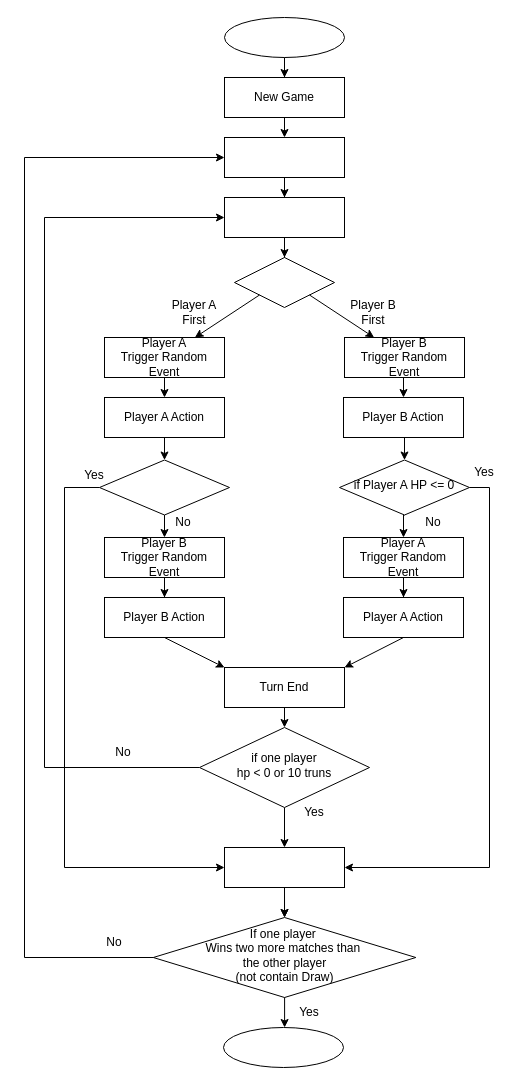
Image size: 532x1085. Some labels were removed from this diagram. Each missing label, with the centre of its shape:
Game Finished: the point at 283,1047
if Player B HP <= 0: the point at 164,487
Match End: the point at 284,867
New Match: the point at 284,157
New Turn: the point at 284,217
Welcome: the point at 284,37
Who Action First: the point at 284,282
